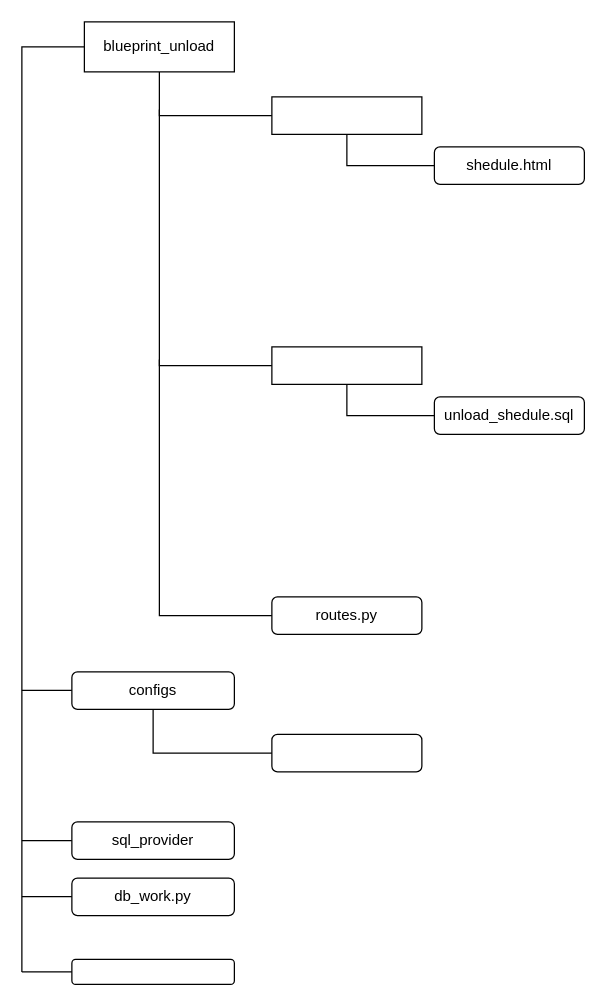
This 606x1006 diagram has some shape labels left out. Each missing label, with the centre of its shape:
db_context_manager,py: point 152,971
lastname.json: point 346,752
sql: point 346,365
templates: point 346,115
